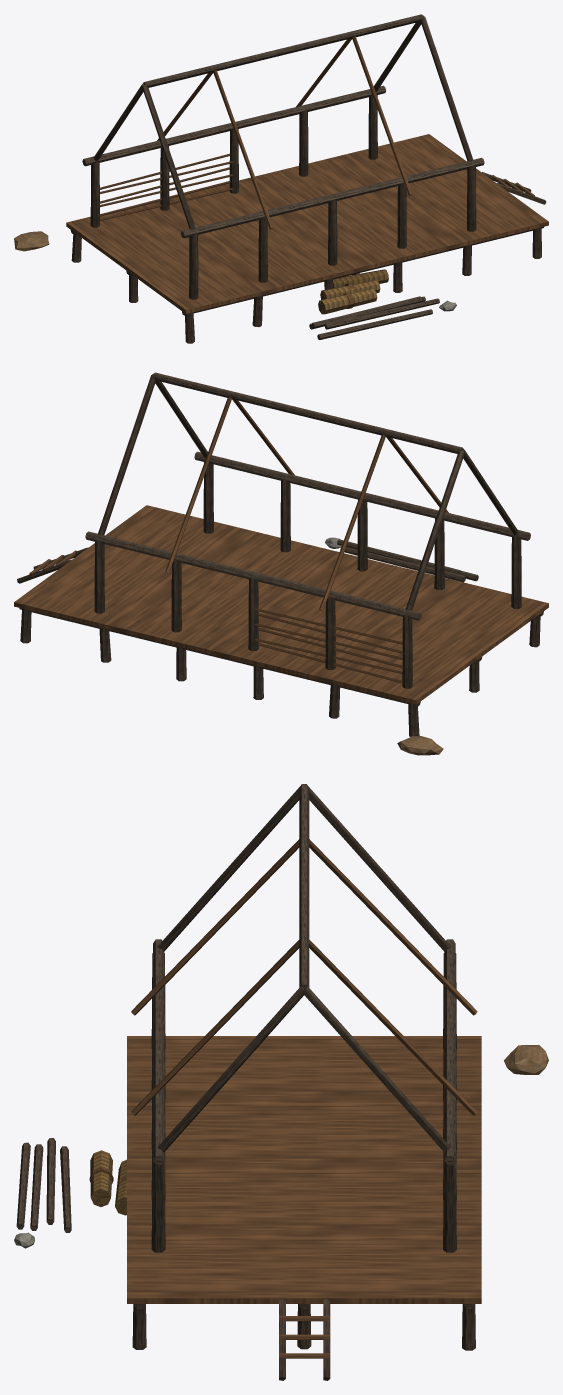
File: cantiere_casa_impalcato_piccola.glb
The picture shows the model from 3 angles, top to bottom: view 1: azimuth 30°, elevation 25°; view 2: azimuth 150°, elevation 25°; view 3: azimuth 270°, elevation 25°; orthographic projection. The views are drawn at different scales.
Visible parts, largest first — view 1: cantiere_casa_impalcato_piccola; view 2: cantiere_casa_impalcato_piccola; view 3: cantiere_casa_impalcato_piccola.
Boxes of the visible parts, x1,y1,x2,y2 form: cantiere_casa_impalcato_piccola: [14, 14, 548, 343]; cantiere_casa_impalcato_piccola: [14, 372, 548, 755]; cantiere_casa_impalcato_piccola: [14, 784, 548, 1380].
Bounding box in the file's own units: 12.13 × 5.58 × 8.45.
5 materials, 5 textured.
